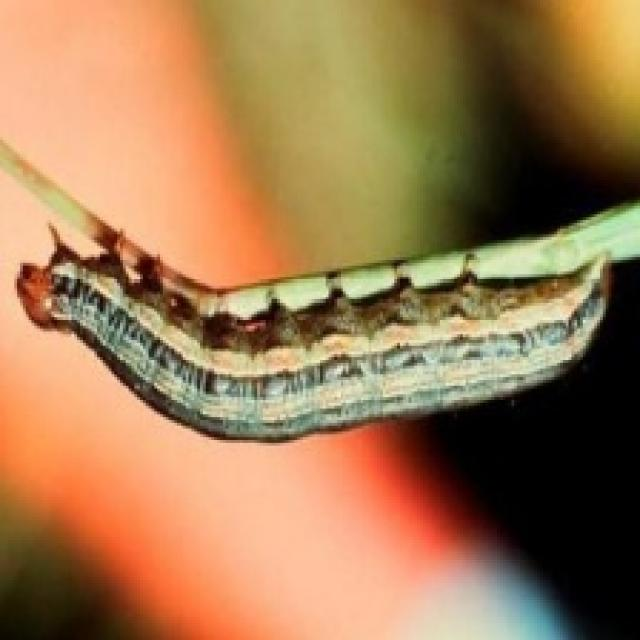armyworm: (4, 212, 638, 464)
